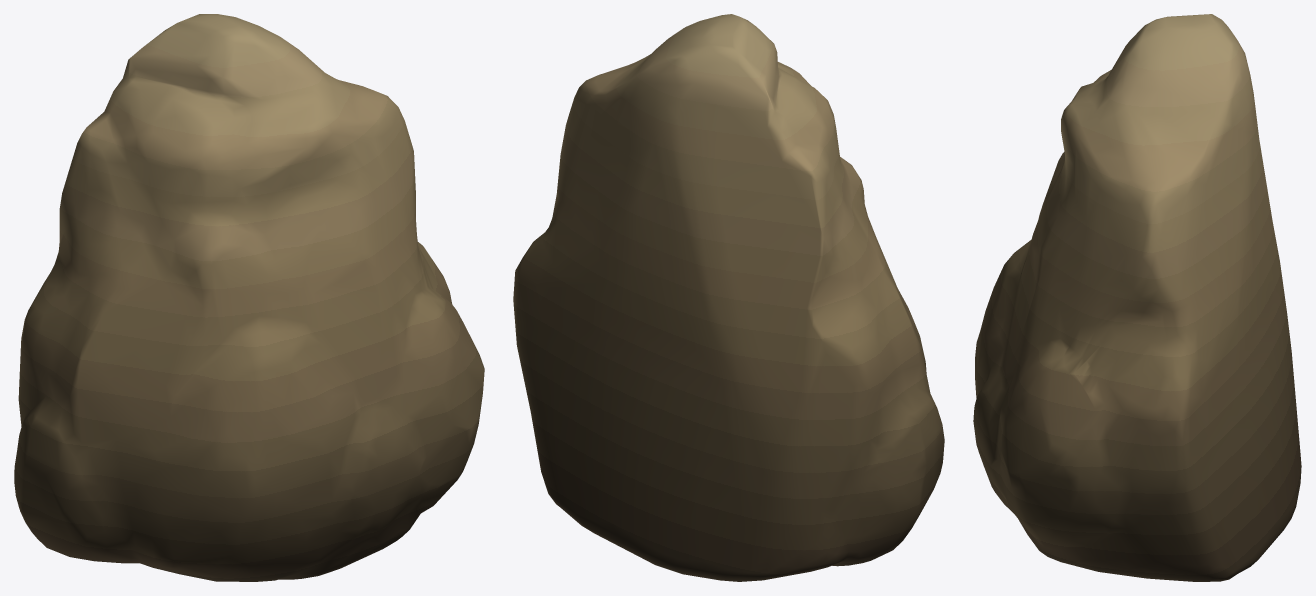
The model's file is SM_rockDoor.fbx.
3 views of the same model, side by side, from view 1: azimuth 30°, elevation 25°; view 2: azimuth 150°, elevation 25°; view 3: azimuth 270°, elevation 25° (orthographic). The views are drawn at different scales.
Visible parts, largest first — view 1: SM_rockDoor; view 2: SM_rockDoor; view 3: SM_rockDoor.
Boxes of the visible parts, x1,y1,x2,y2 form: SM_rockDoor: (14, 14, 484, 581); SM_rockDoor: (513, 14, 944, 581); SM_rockDoor: (973, 14, 1301, 581).
Bounding box in the file's own units: 272 × 323 × 190.
